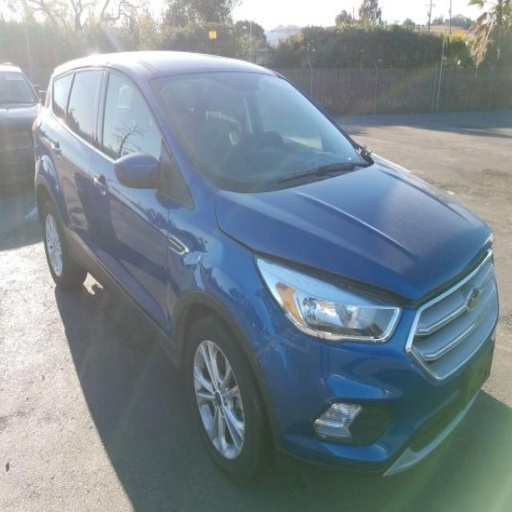dent: (245, 282, 310, 374), (177, 224, 224, 298)
scratch: (256, 324, 299, 355)
